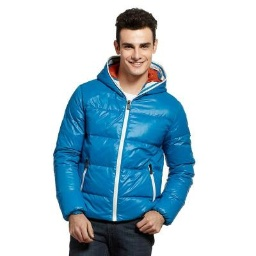face: (113, 8, 158, 76)
